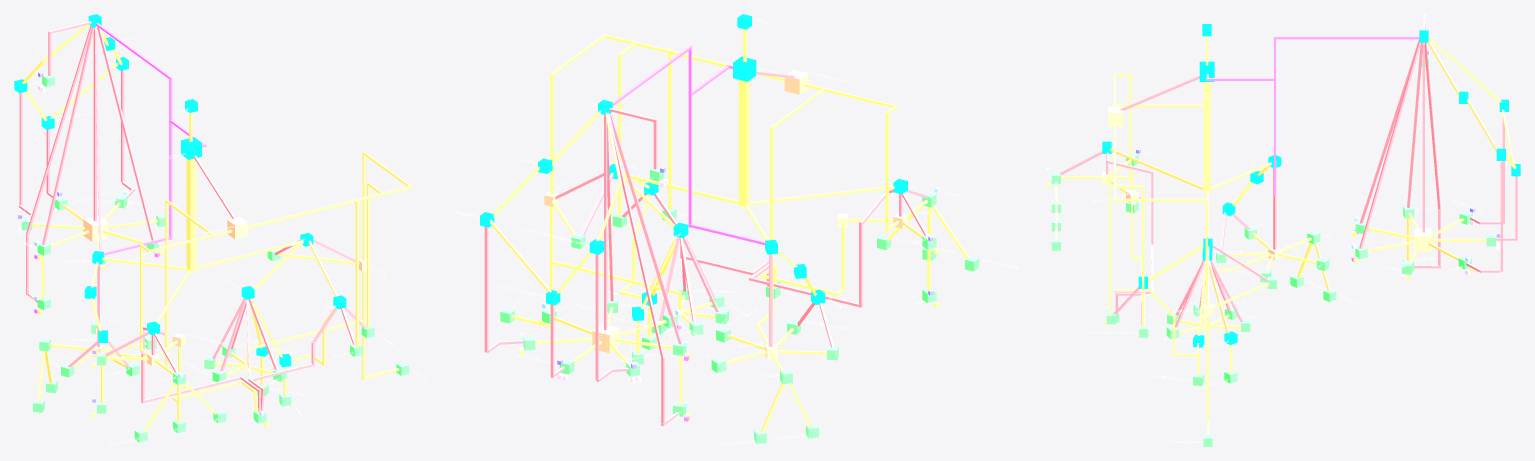
The model's file is CollectionFramework.glb.
3 views of the same model, side by side, from view 1: azimuth 30°, elevation 25°; view 2: azimuth 150°, elevation 25°; view 3: azimuth 270°, elevation 25° (orthographic). The views are drawn at different scales.
Visible parts, largest first — view 1: Cube.048, Cube.125, Cube.123, Cube.016, Cube.124, Cube.054, SortedSet-Cube.003, Cube.171, Cube.063, Cube.181, Cube.185, Cube.055 (+6 smaller); view 2: Cube.048, Cube.016, Cube.125, SortedSet-Cube.003, Cube.054, Cube.145, Cube.063, Cube.121, Cube.185, Cube.181, Cube.170, Cube.171; view 3: Cube.048, Cube.123, SortedSet-Cube.003, Cube.032, Cube.054, Cube.124, Cube.125, Cube.145, Cube.016.
Boxes of the visible parts, x1,y1,x2,y2 form: Cube.048: (186,158,196,271); Cube.125: (42,27,94,245); Cube.123: (97,27,154,240); Cube.016: (26,26,91,234); Cube.124: (95,26,101,251); Cube.054: (93,28,96,220); SortedSet-Cube.003: (39,321,156,377); Cube.171: (248,186,411,228); Cube.063: (169,79,172,239); Cube.181: (165,199,168,367); Cube.185: (355,202,358,346); Cube.055: (19,92,22,205); Cube.048: (739,80,749,206); Cube.016: (608,114,664,358); Cube.125: (610,113,682,344); SortedSet-Cube.003: (711,319,838,383); Cube.054: (604,115,607,330); Cube.145: (726,327,826,370); Cube.063: (688,49,691,227); Cube.121: (484,227,488,352); Cube.185: (668,48,671,209); Cube.181: (770,126,773,313); Cube.170: (749,185,894,204); Cube.171: (604,34,784,81); Cube.048: (1203,82,1210,192); Cube.123: (1359,40,1421,248); SortedSet-Cube.003: (1216,226,1329,282); Cube.032: (1273,36,1419,39); Cube.054: (1422,42,1424,232); Cube.124: (1360,40,1418,223); Cube.125: (1407,42,1422,207); Cube.145: (1226,233,1316,269); Cube.016: (1425,42,1440,208).
Size of the model in its own units: 331 by 270 by 365.
